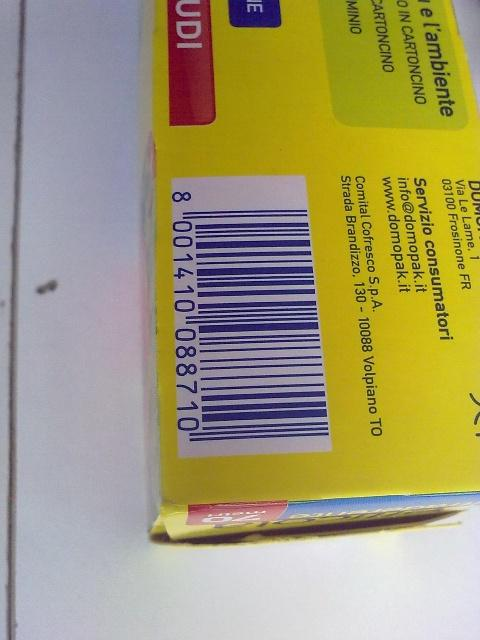Barcode: (164, 182, 333, 447)
